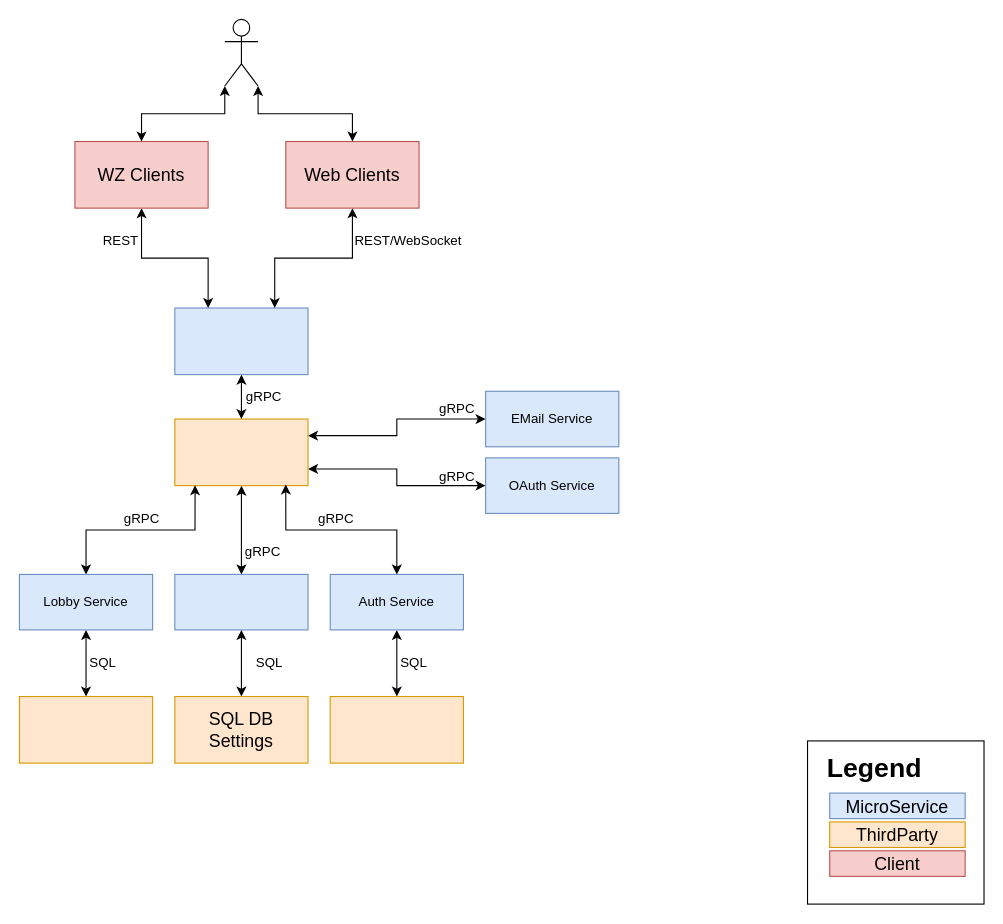
This 1003x924 diagram has some shape labels left out. Here are the shapes that lost their labels. From the top down, the centre of each, then its label:
At pixel 241 341: "HTTP Proxy".
At pixel 241 452: "NATS Broker".
At pixel 241 601: "Settings Service".
At pixel 85 729: "SQL DB Lobby".
At pixel 396 729: "SQL DB Auth".
